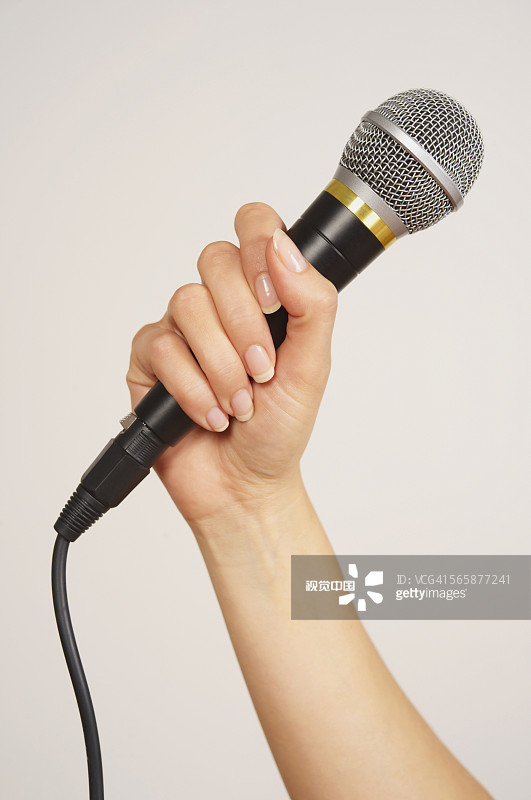no-phone: (100, 167, 368, 539)
